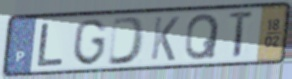D: (105, 15, 147, 67)
G: (72, 17, 109, 68)
K: (148, 15, 181, 63)
L: (35, 21, 66, 68)
Q: (183, 12, 222, 62)
T: (227, 9, 257, 61)
